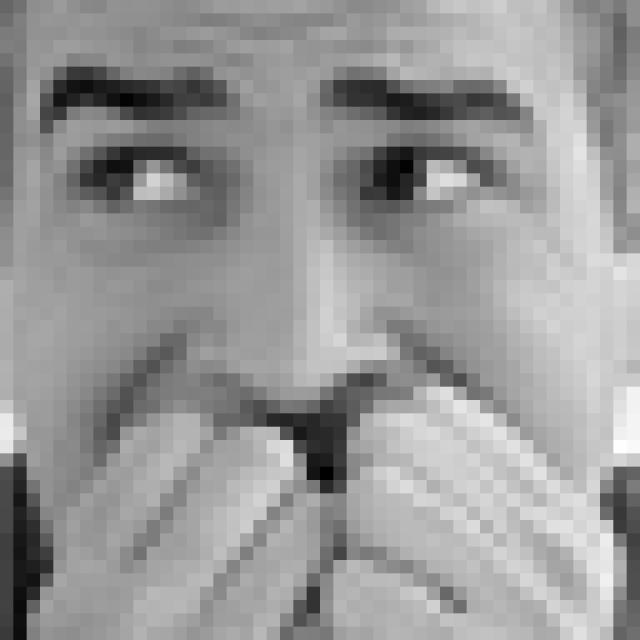fear: (26, 42, 554, 568)
